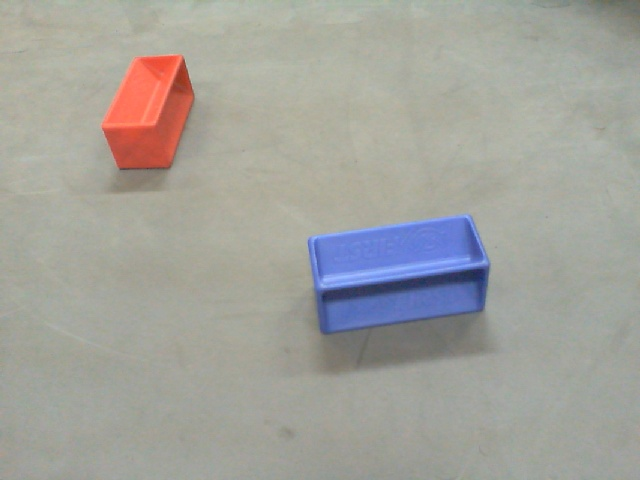BlueSample: (304, 212, 493, 338)
RedSample: (98, 51, 201, 172)
